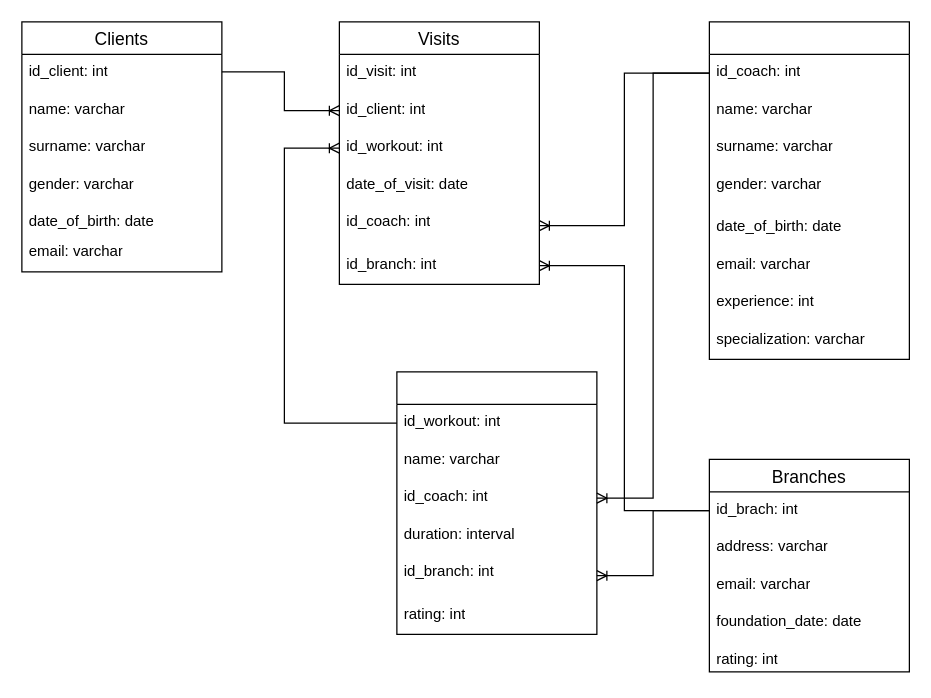
Image size: 931x698. Some labels were removed from this diagram. Here are the shapes that lost their labels. From the top down, the box of each, then its label:
(708, 21, 909, 359): Coaches
(396, 371, 597, 634): Workouts
